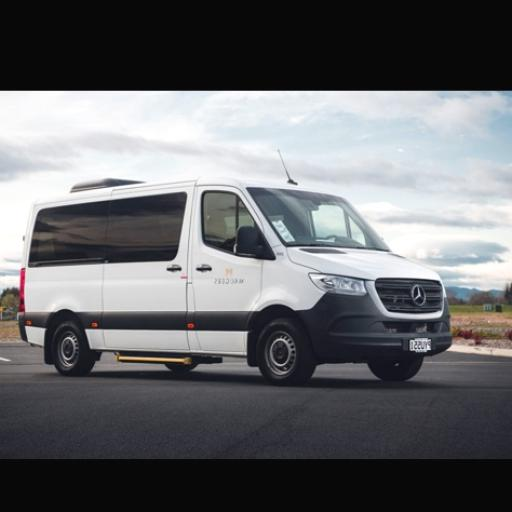van: (22, 180, 452, 386)
